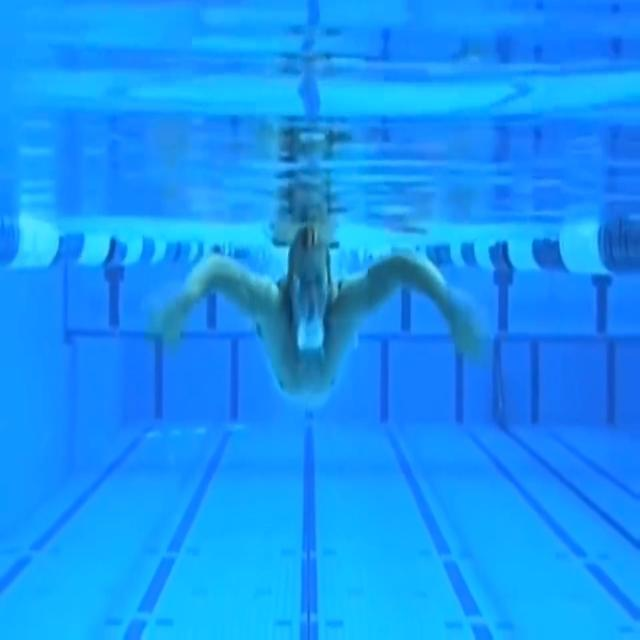Swimming: (154, 231, 486, 399)
